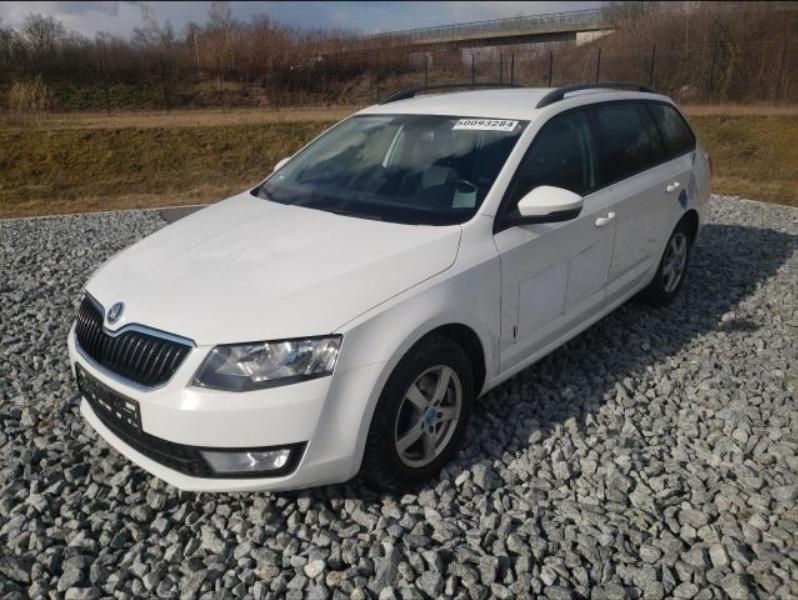Back-door: (591, 98, 692, 308)
Back-wheel: (647, 227, 690, 306)
Back-window: (597, 105, 669, 186), (651, 105, 693, 156)
Fender: (331, 214, 501, 400)
Front-bumper: (66, 322, 400, 493)
Front-door: (493, 103, 617, 375)
Front-wheel: (359, 331, 473, 494)
Front-window: (510, 113, 594, 213)
Grille: (77, 292, 194, 388)
Headlight: (188, 334, 343, 392)
Hood: (85, 176, 462, 346)
License-plate: (75, 362, 142, 438)
Mirror: (502, 186, 584, 226), (274, 158, 289, 173)
Quarter-panel: (648, 140, 710, 283)
Rocker-panel: (491, 273, 651, 389)
Roof: (355, 88, 665, 122)
Tail-light: (708, 154, 715, 176)
Windshield: (257, 115, 530, 227)
